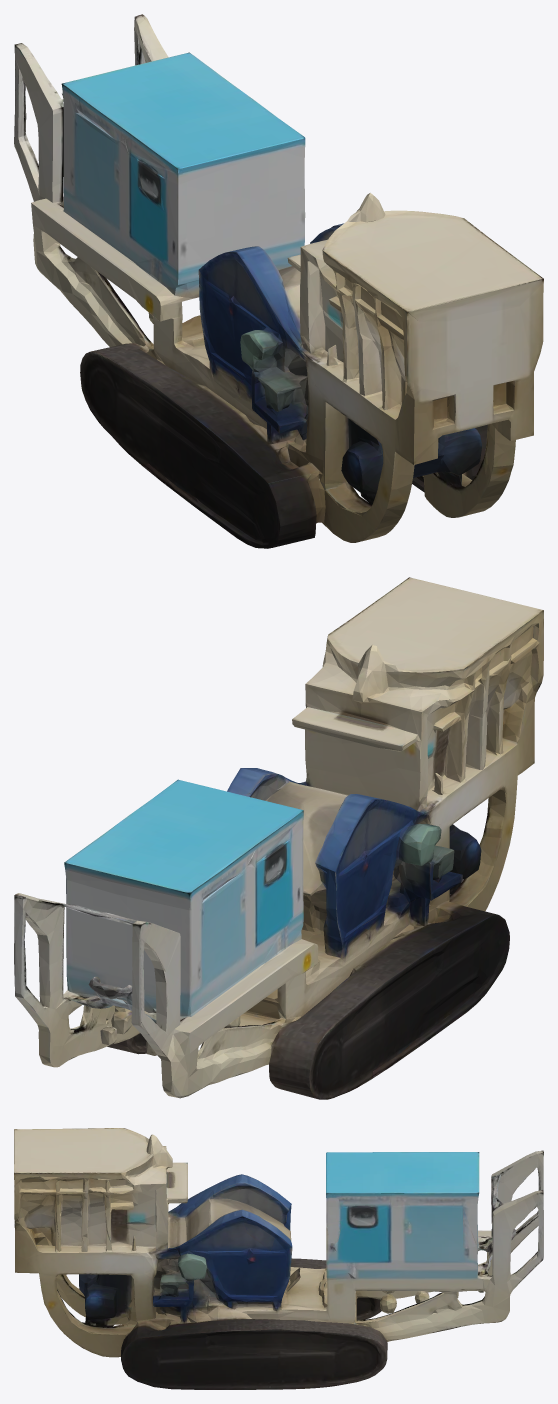
Rendered from track-mounted-mobile-projects-1.glb.
3 renders of one model, top to bottom at view 1: azimuth 30°, elevation 25°; view 2: azimuth 150°, elevation 25°; view 3: azimuth 270°, elevation 25°, orthographic. The views are drawn at different scales.
Parts seen in each view (by area): view 1: geometry_0; view 2: geometry_0; view 3: geometry_0.
Boxes of the visible parts, x1,y1,x2,y2 form: geometry_0: (14, 14, 543, 548); geometry_0: (14, 577, 543, 1099); geometry_0: (14, 1128, 543, 1389).
Size of the model in its own units: 0.3297 by 0.4558 by 0.9993.
1 material, 1 textured.
